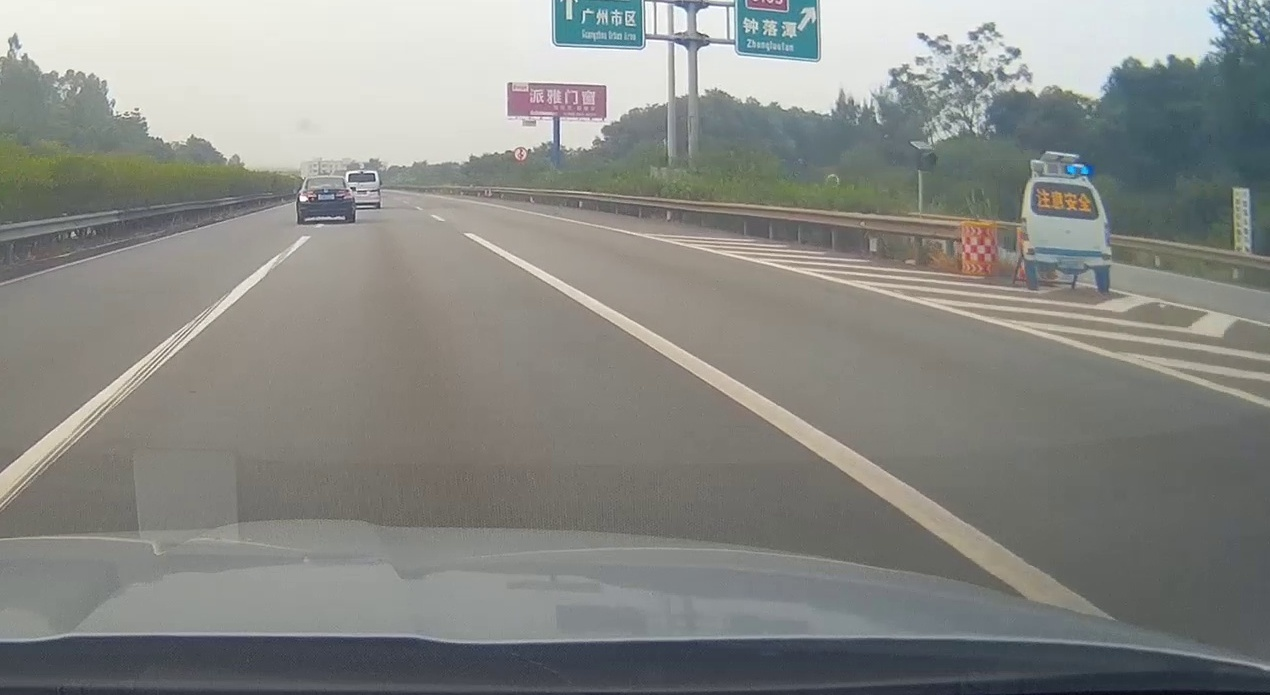L_light: (299, 191, 317, 203)
R_light: (336, 189, 353, 200)
T_light: (321, 177, 329, 179)
day-left: (296, 176, 355, 224)
